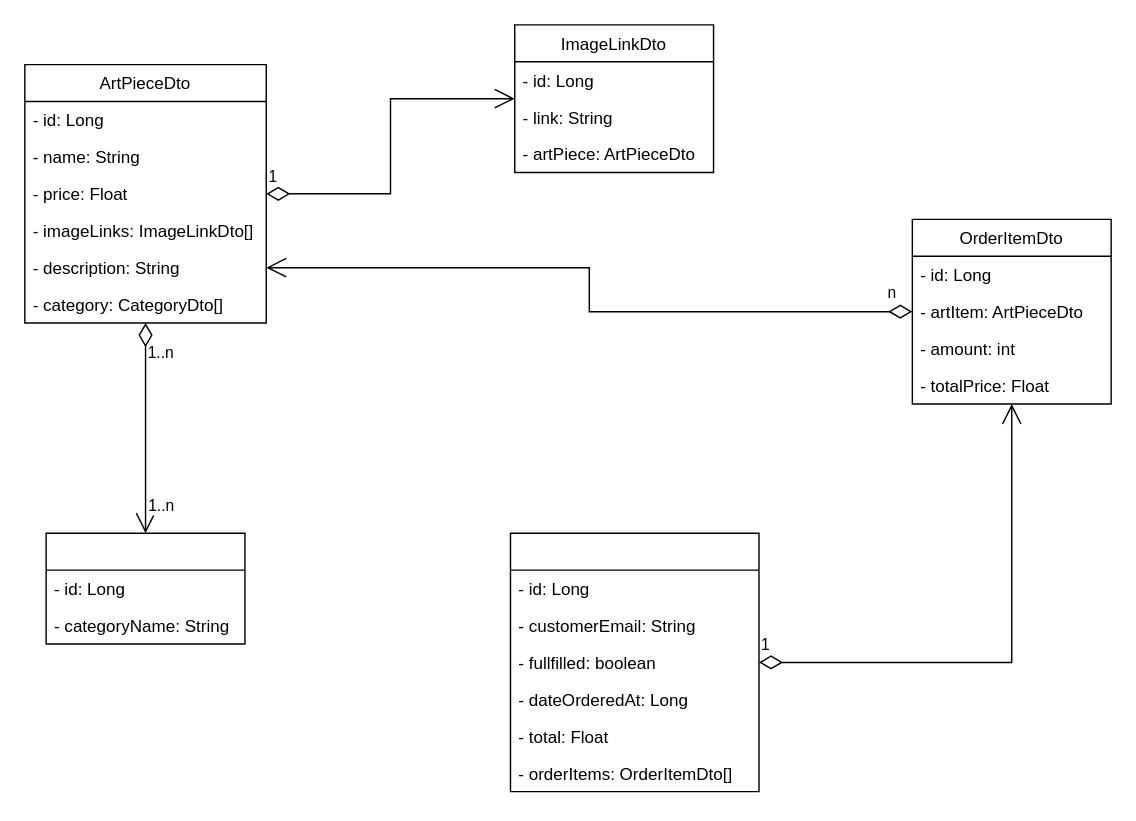
The diagram is 1136 pixels wide and 821 high, and some of its shapes have lost their labels. The box of each missing label's shape, as (x1, y1, x2, y2) in pixels:
CategoryDto: (45, 532, 245, 644)
OrderDto: (509, 532, 759, 792)
